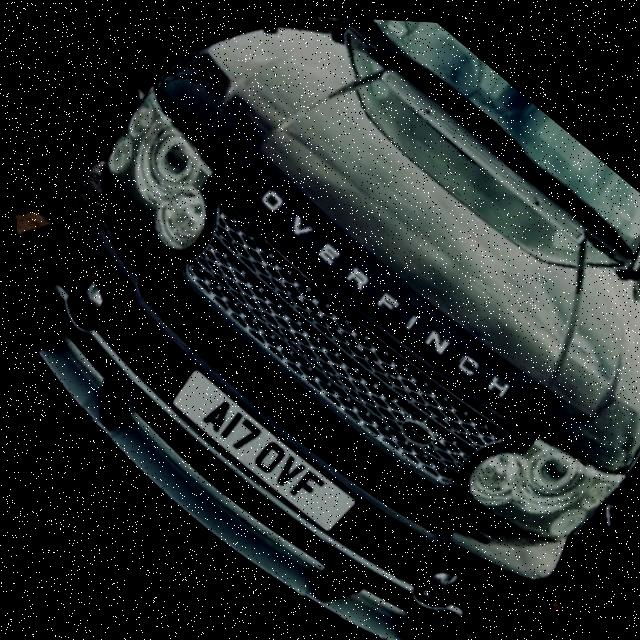license_plate: (159, 365, 349, 535)
